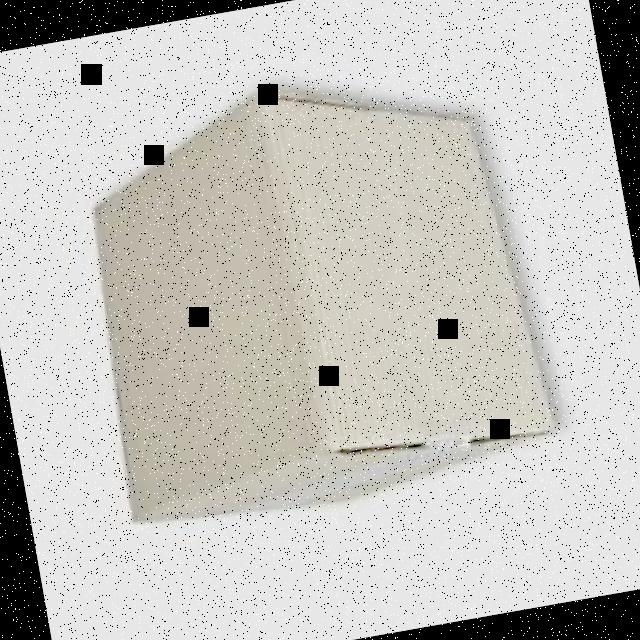cardboard_box: (60, 51, 572, 554)
